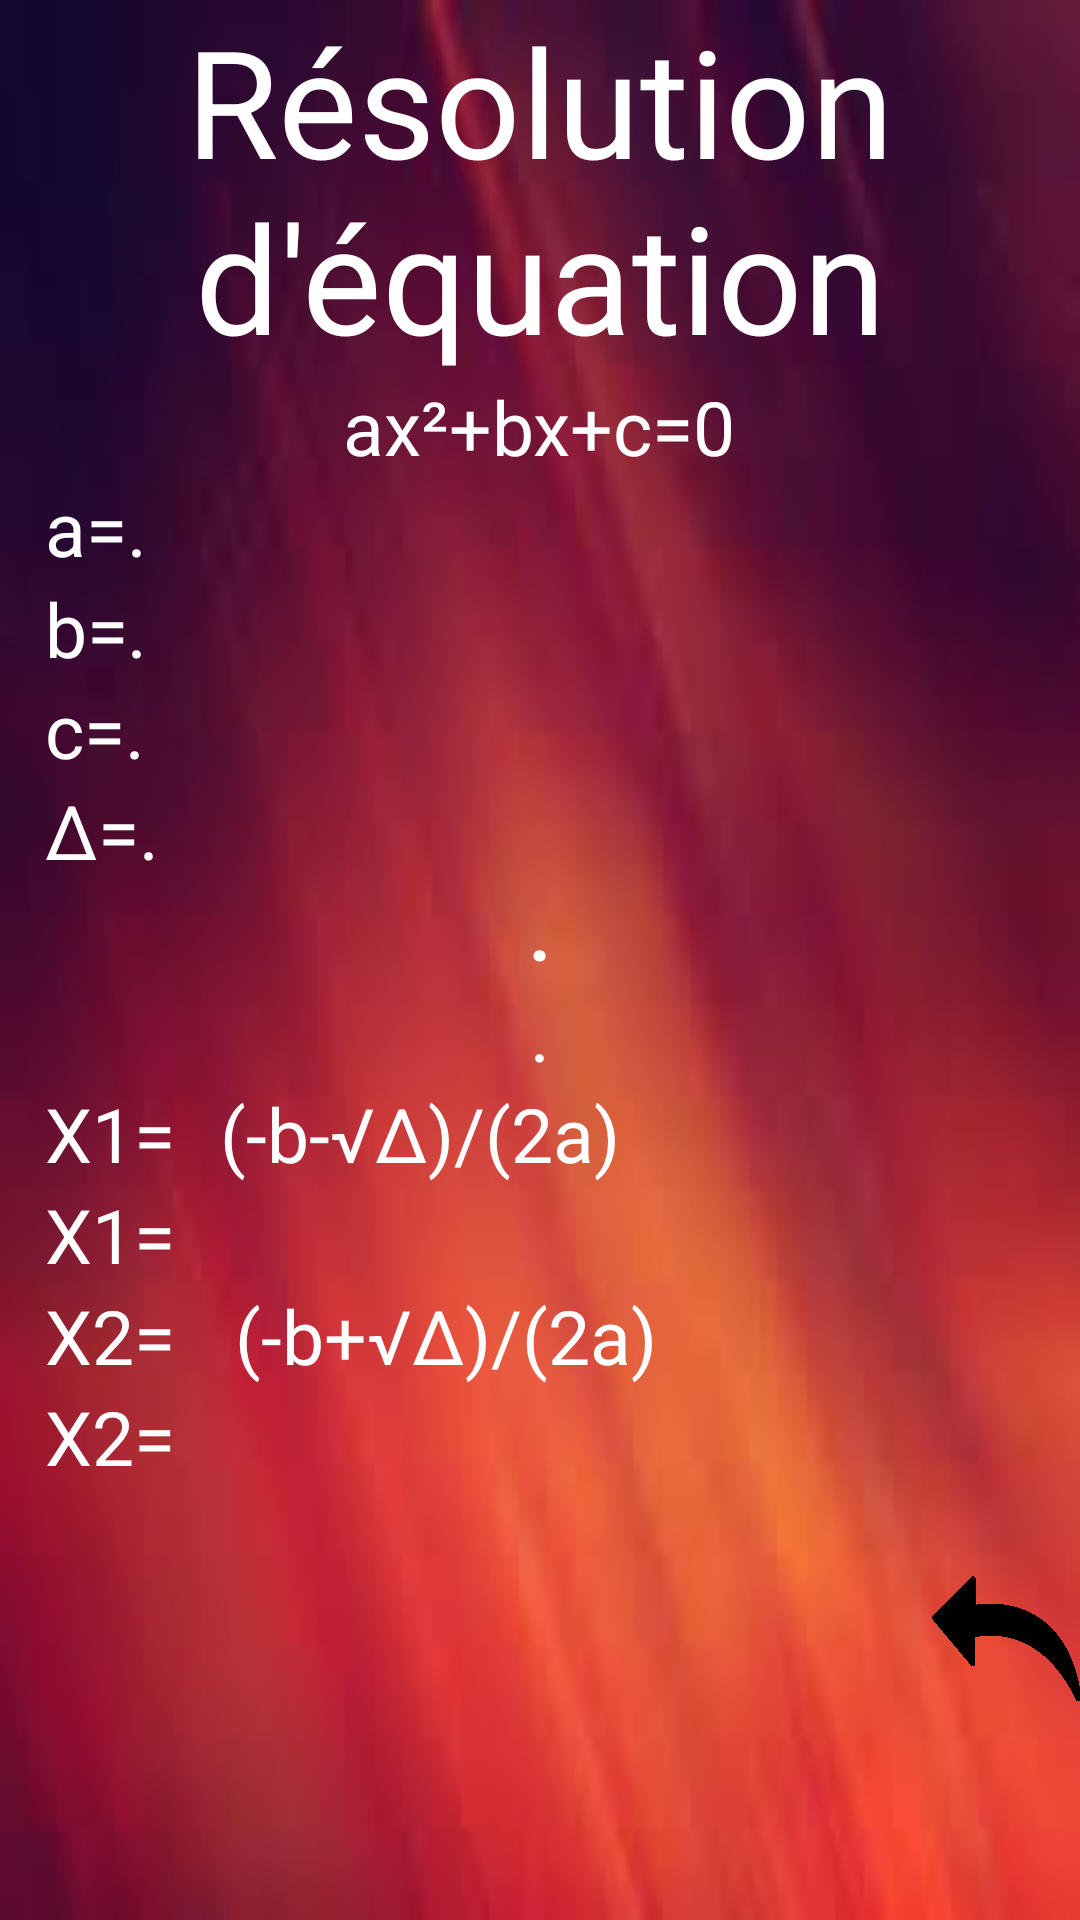

Where to tap for icons on this 1080 × 1920 app screen, as point (x, y):
retour: point (1005, 1637)
